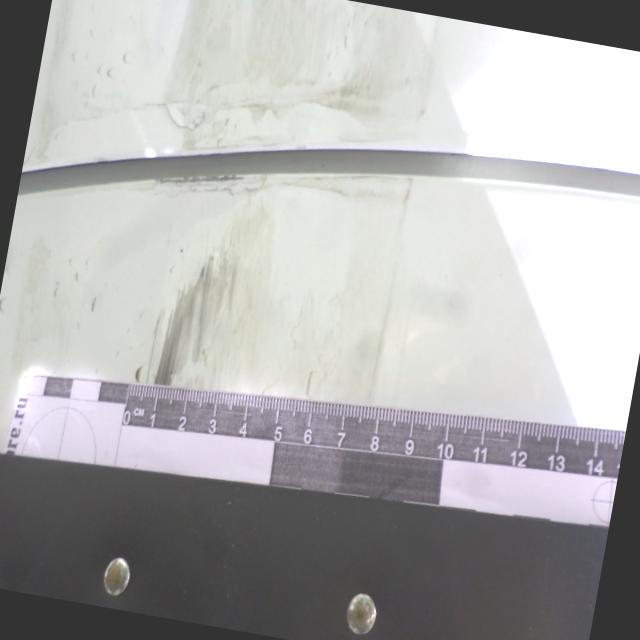Rayure: (143, 201, 276, 400)
